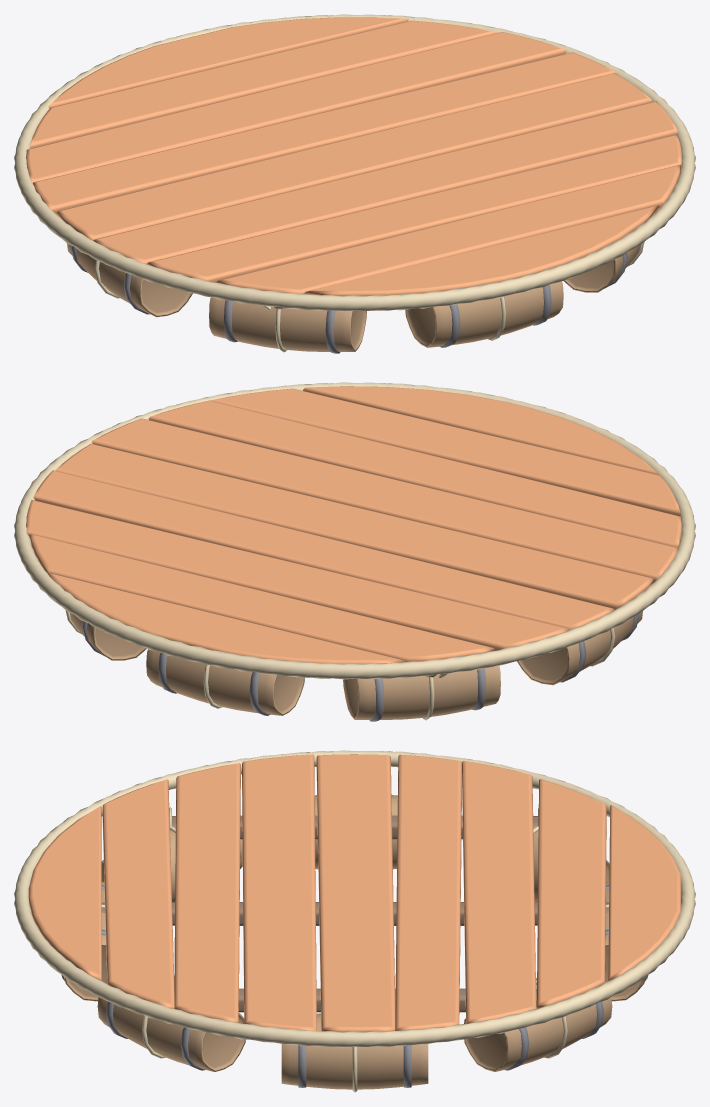
Rendered from SharkBaitRaft.glb.
3 renders of one model, top to bottom at view 1: azimuth 30°, elevation 25°; view 2: azimuth 150°, elevation 25°; view 3: azimuth 270°, elevation 25°, orthographic.
Visible parts, largest first — view 1: Deck, Rope, Barrels, Hoops; view 2: Deck, Rope, Barrels, Hoops; view 3: Deck, Rope, Barrels, Hoops, Beams.
Part boxes in pixels (x1,y1,x2,y2): Deck: [26, 17, 681, 296]; Rope: [14, 14, 695, 352]; Barrels: [67, 243, 639, 351]; Hoops: [71, 245, 627, 353]; Deck: [26, 386, 681, 664]; Rope: [14, 382, 695, 720]; Barrels: [70, 611, 642, 719]; Hoops: [82, 614, 638, 721]; Deck: [28, 754, 681, 1032]; Rope: [14, 750, 695, 1092]; Barrels: [64, 795, 646, 1089]; Hoops: [61, 885, 648, 1087]; Beams: [101, 815, 608, 1012].
Bounding box in the file's own units: 13.99 × 2 × 13.98.
